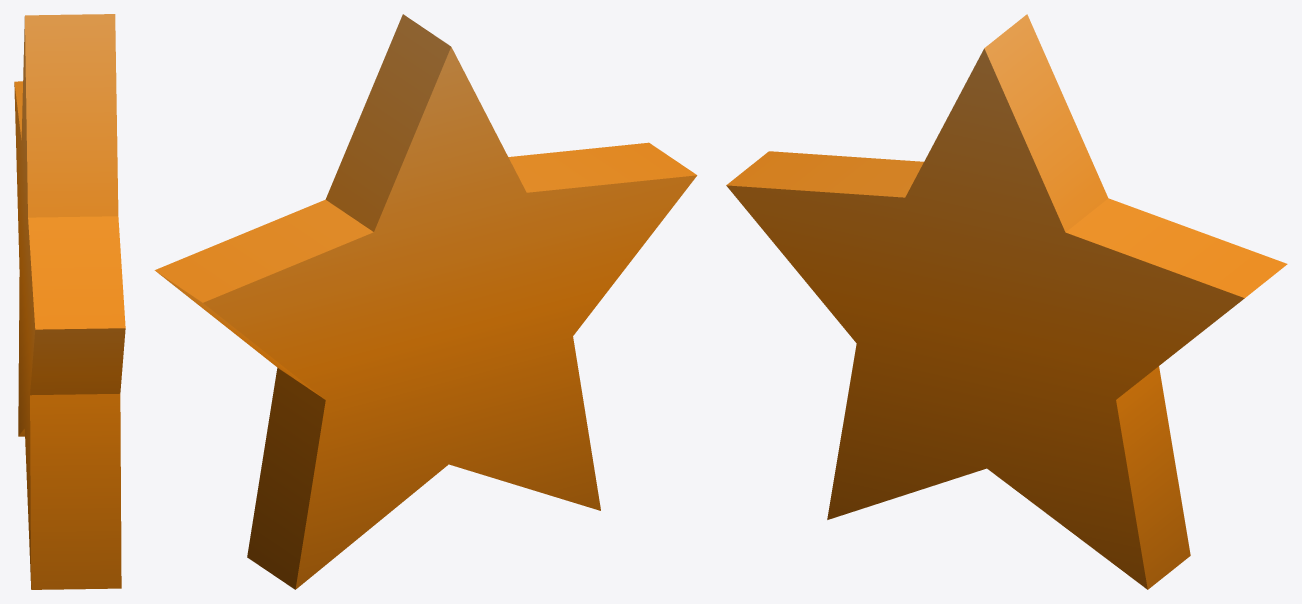
File: Collectible_Star_01.fbx
3 renders of one model, left to right at view 1: azimuth 30°, elevation 25°; view 2: azimuth 150°, elevation 25°; view 3: azimuth 270°, elevation 25°, orthographic.
Parts seen in each view (by area): view 1: Collectible_Star_01; view 2: Collectible_Star_01; view 3: Collectible_Star_01.
Boxes of the visible parts, x1,y1,x2,y2 form: Collectible_Star_01: (14,14,125,589); Collectible_Star_01: (154,14,697,589); Collectible_Star_01: (726,14,1287,589).
Size of the model in its own units: 45.58 by 71.65 by 71.92.
Materials: 1 (1 with a texture image).
